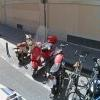Motorcycle: (11, 33, 60, 83)
